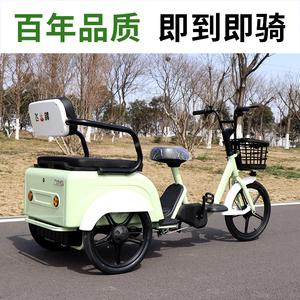empty: (12, 96, 279, 278)
